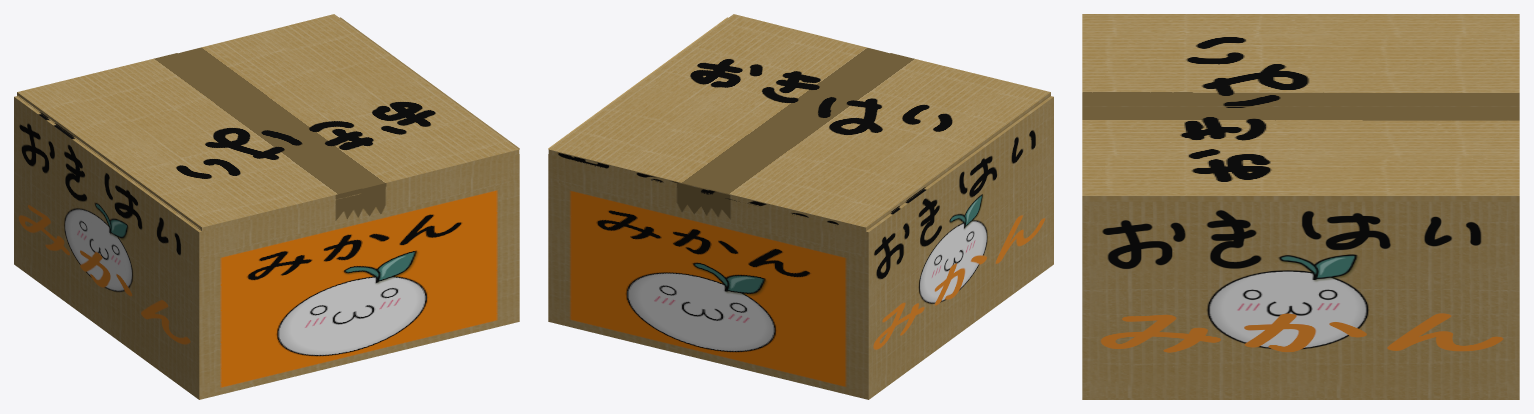
Rendered from Cardboard_I.fbx.
The picture shows the model from 3 angles, left to right: view 1: azimuth 30°, elevation 25°; view 2: azimuth 150°, elevation 25°; view 3: azimuth 270°, elevation 25°; orthographic projection. The views are drawn at different scales.
Parts seen in each view (by area): view 1: Cardboard_I; view 2: Cardboard_I; view 3: Cardboard_I.
Boxes of the visible parts, x1,y1,x2,y2 form: Cardboard_I: (14,14,519,399); Cardboard_I: (548,14,1053,399); Cardboard_I: (1082,14,1519,399).
Bounding box in the file's own units: 202 × 103 × 200.
